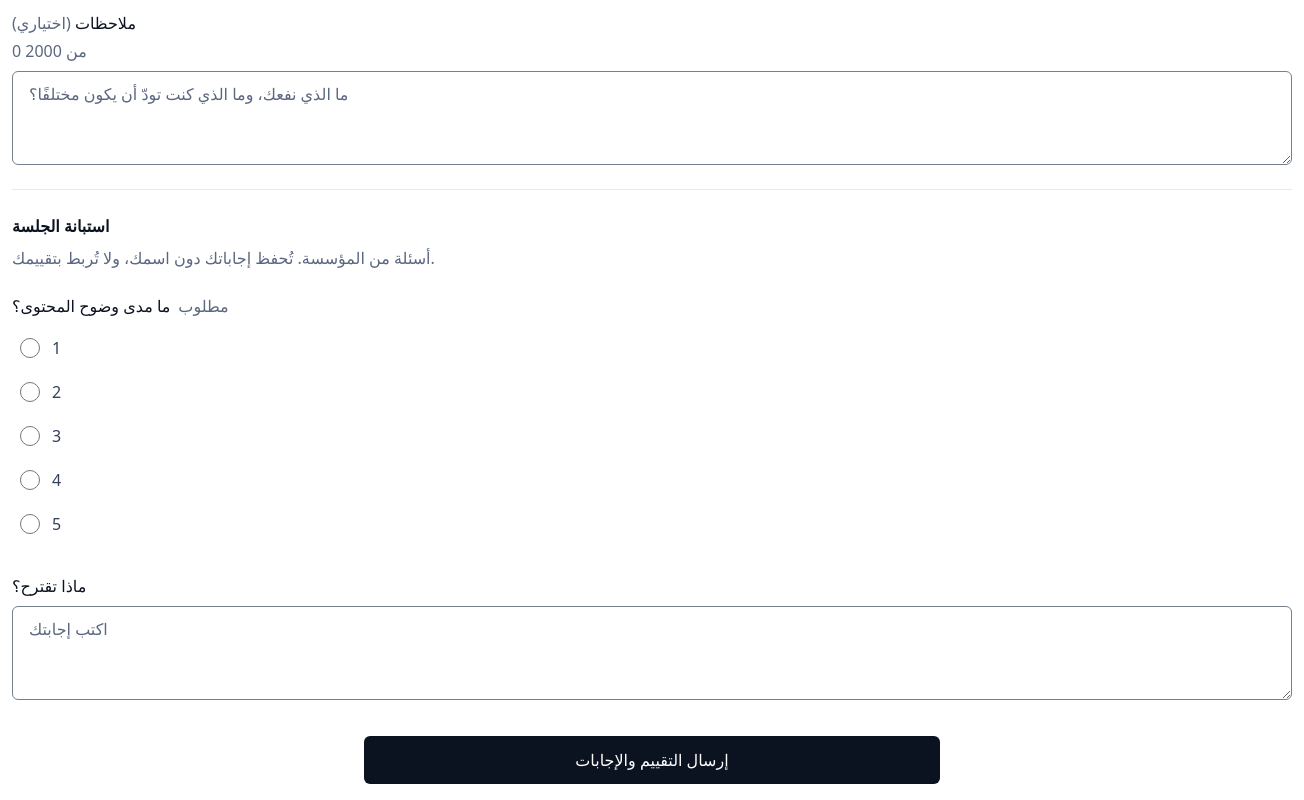
Test: RateForm when the survey is refused and the rating is not › names the question to fix, in the summary and at the field
(page scrolled)
Click the button "إرسال التقييم والإجابات": (652, 760) [364, 736, 940, 784]
(page scrolled)
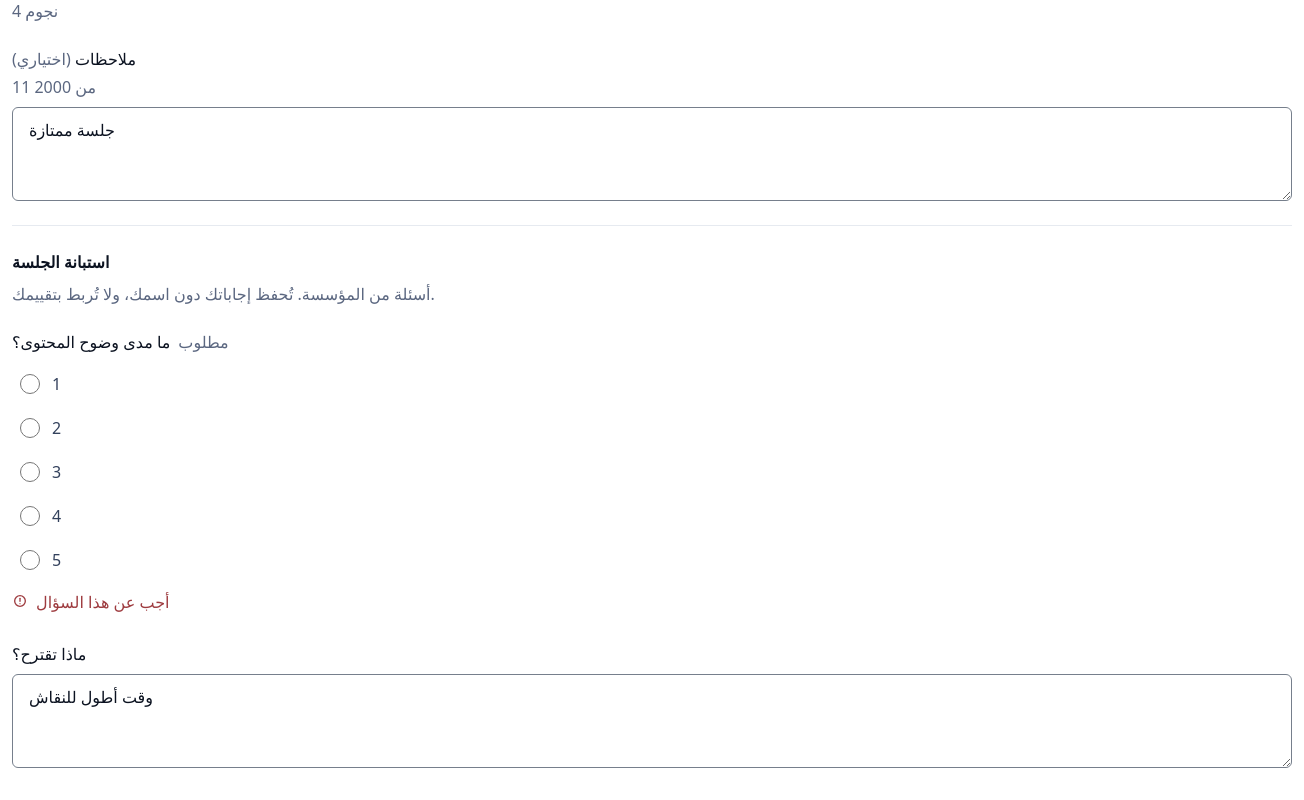
Check: the element "ما مدى وضوح المحتوى؟مطلوب 1 2 3 4 5 أجب عن هذا السؤال" is shown, box [12, 331, 229, 613]
